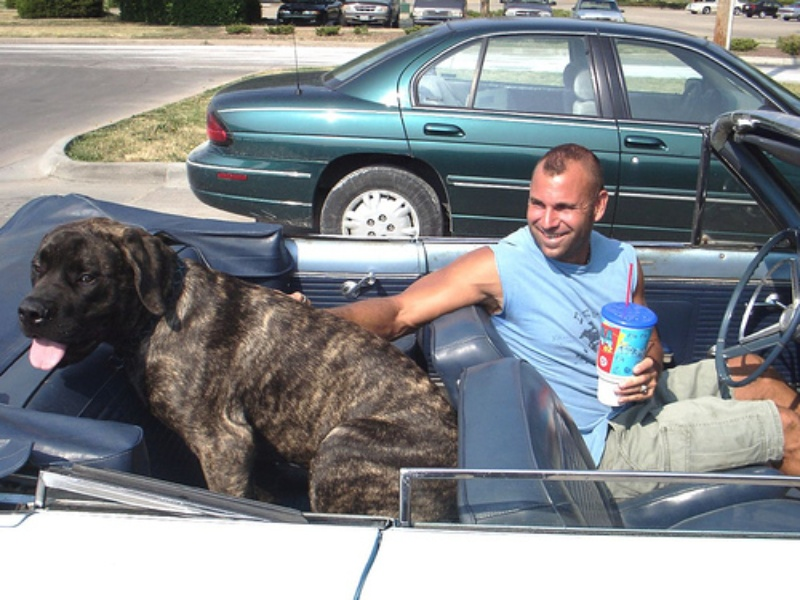car: (2, 109, 800, 600), (186, 16, 800, 240), (342, 1, 400, 27), (276, 2, 340, 25), (410, 1, 464, 24), (571, 2, 624, 20), (499, 1, 557, 17), (685, 1, 746, 14), (743, 1, 782, 18)
person: (319, 144, 800, 504)
